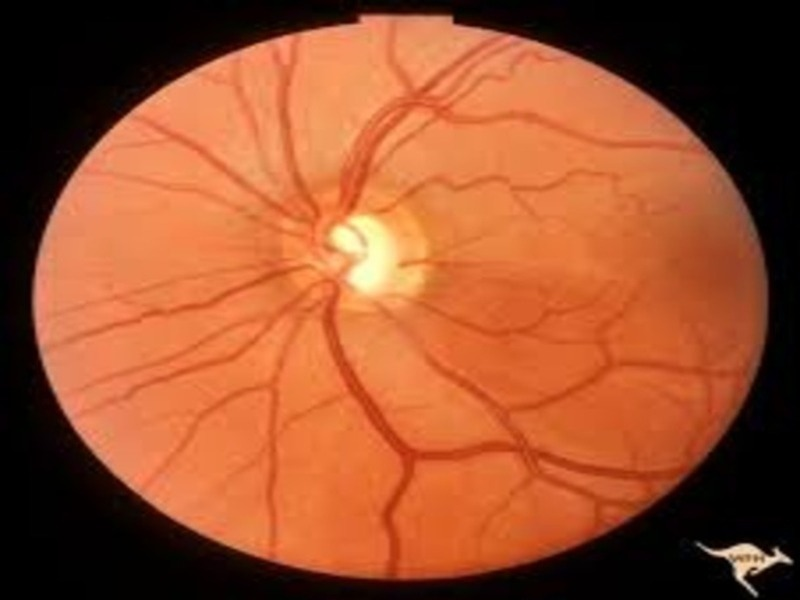Optic Cup: (328, 211, 393, 289)
Optic Disc: (286, 188, 430, 309)
